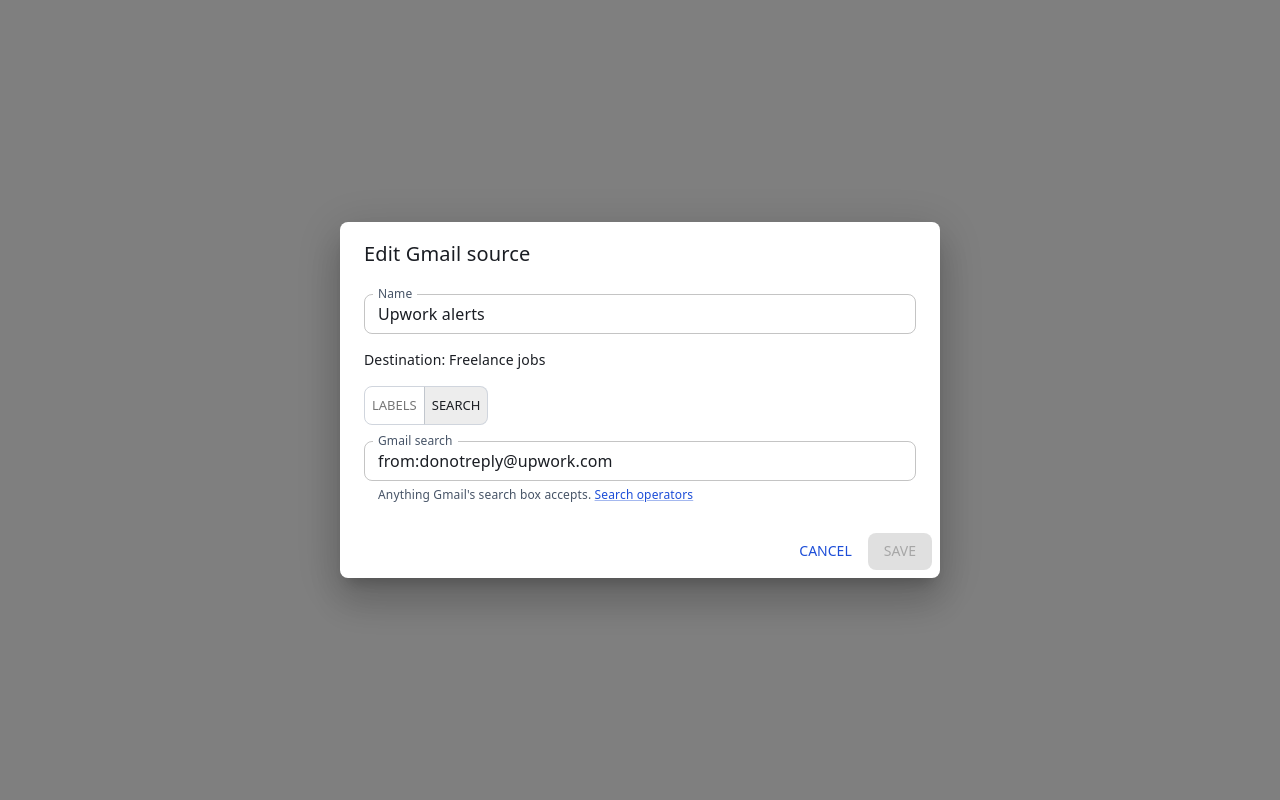
Scenario: EditGmailSourceDialog › changing the match › does not warn that the source overlaps itself
The image size is (1280, 800).
Step 1. Clear the field labelled "Gmail search" → (640, 461), box [364,441,916,481]
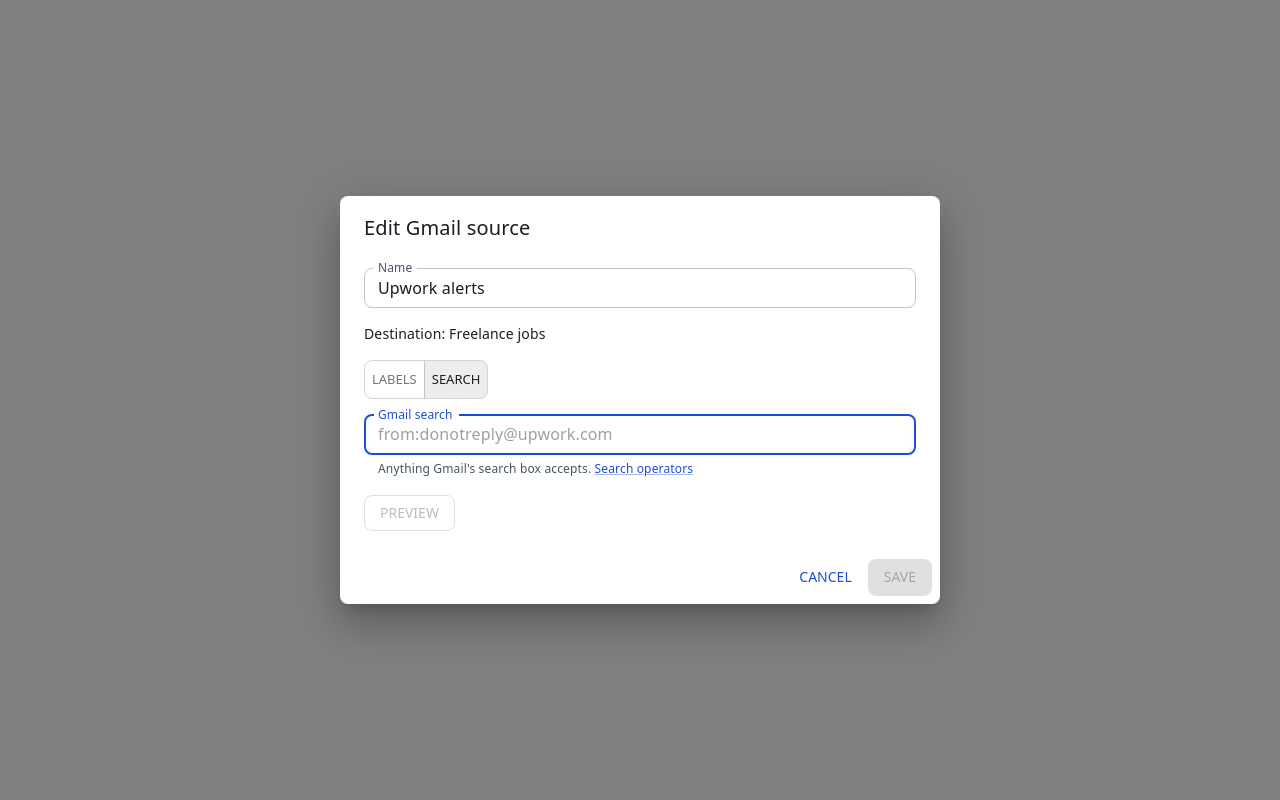
Step 2. Type "from:freelancer.com" into the field labelled "Gmail search" → (640, 435), box [364,415,916,455]
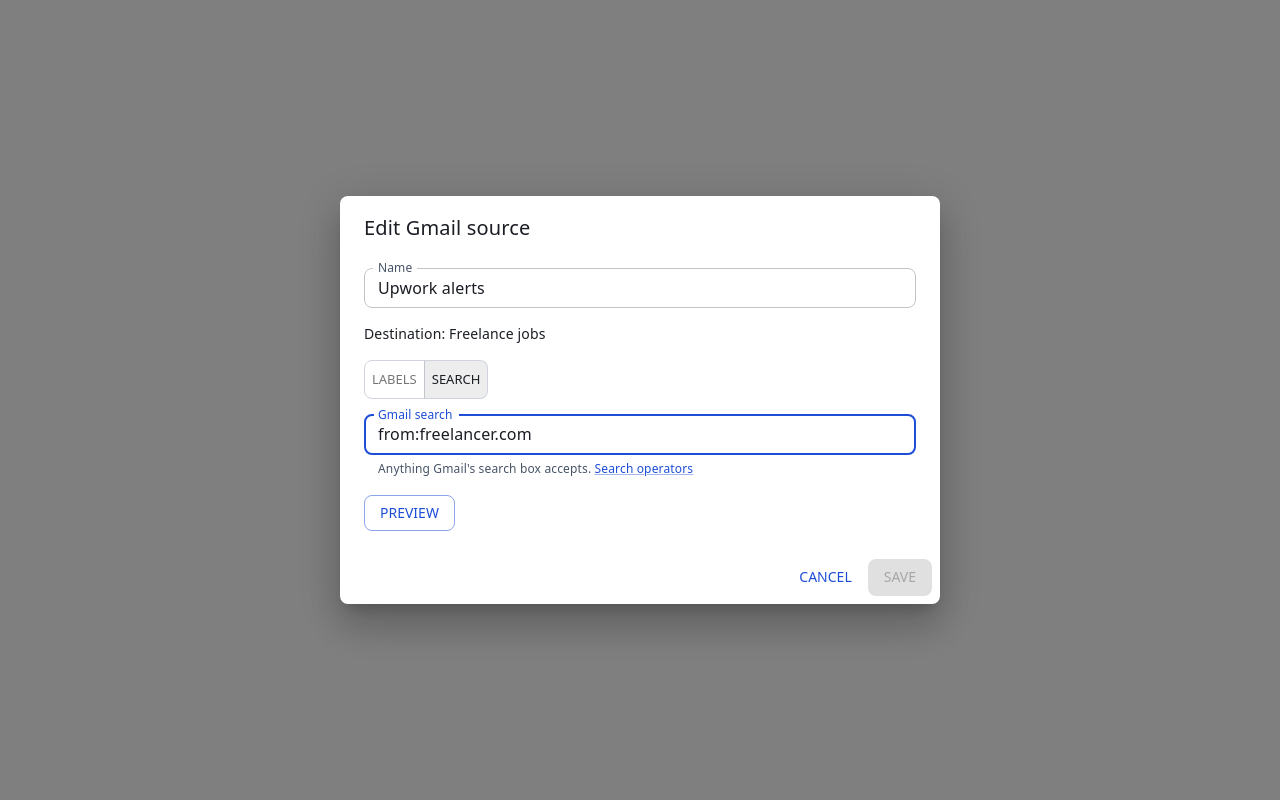
Step 3. Click the button "Preview" → (409, 513), box [364,495,455,531]
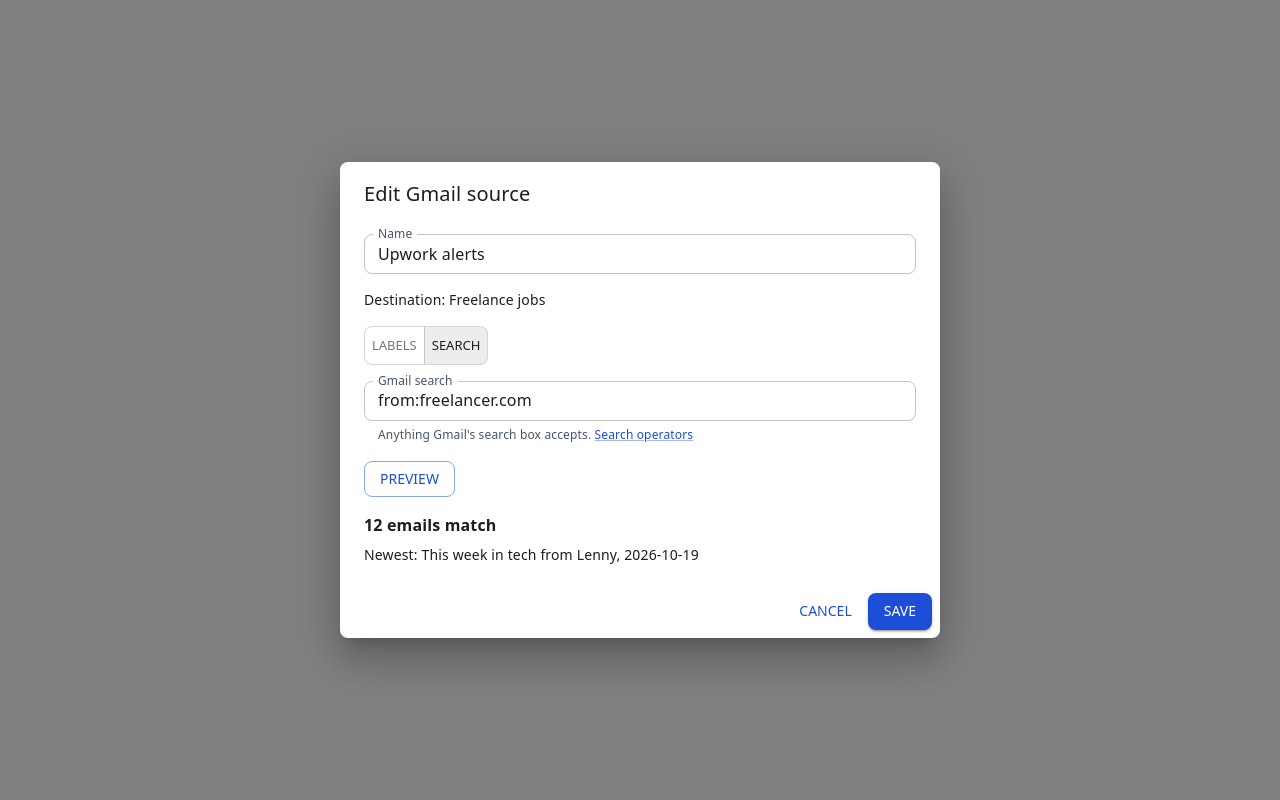
Expected: the text "12 emails match" is shown, [364,514,496,536]
